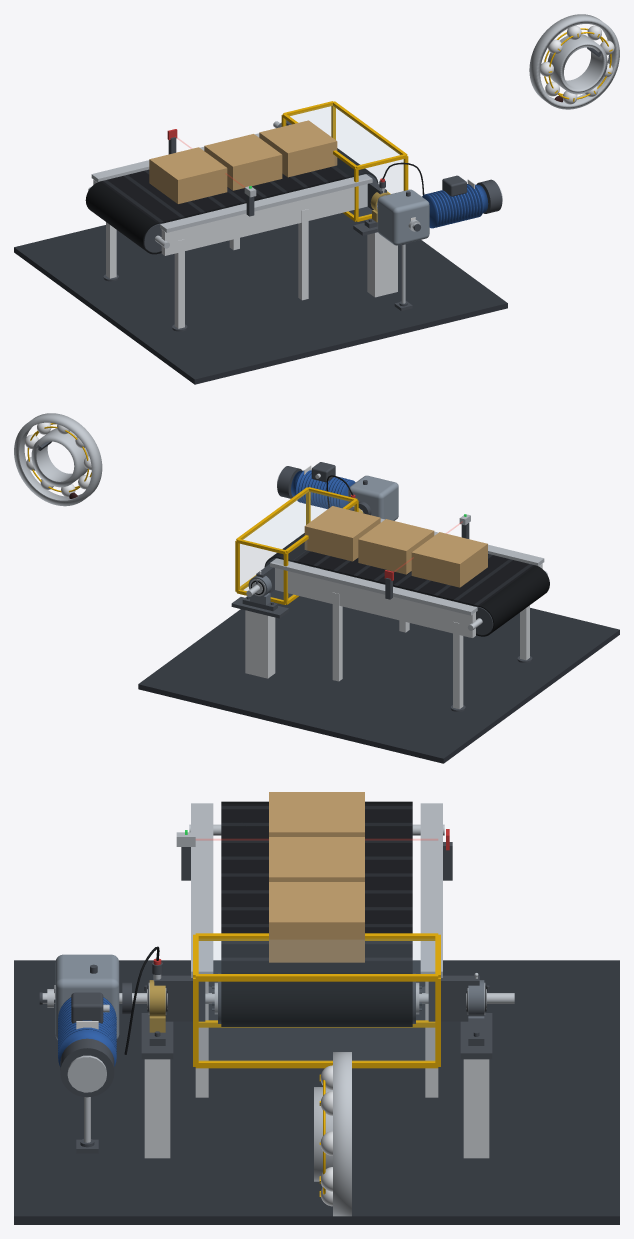
The model's file is 2040-cnv-202-drive-unit.glb.
The picture shows the model from 3 angles, top to bottom: view 1: azimuth 30°, elevation 25°; view 2: azimuth 150°, elevation 25°; view 3: azimuth 270°, elevation 25°; orthographic projection. The views are drawn at different scales.
Visible parts, largest first — view 1: 2040-CNV-202 head drive unit, bearing inspector 7x; view 2: 2040-CNV-202 head drive unit, bearing inspector 7x; view 3: 2040-CNV-202 head drive unit, bearing inspector 7x.
Boxes of the visible parts, x1,y1,x2,y2 form: 2040-CNV-202 head drive unit: (14, 101, 507, 384); bearing inspector 7x: (529, 14, 619, 109); 2040-CNV-202 head drive unit: (138, 462, 619, 763); bearing inspector 7x: (14, 413, 102, 506); 2040-CNV-202 head drive unit: (14, 792, 619, 1224); bearing inspector 7x: (314, 1052, 351, 1216).
Size of the model in its own units: 3.16 by 1.04 by 1.9.
Materials: 21 (1 with a texture image).
